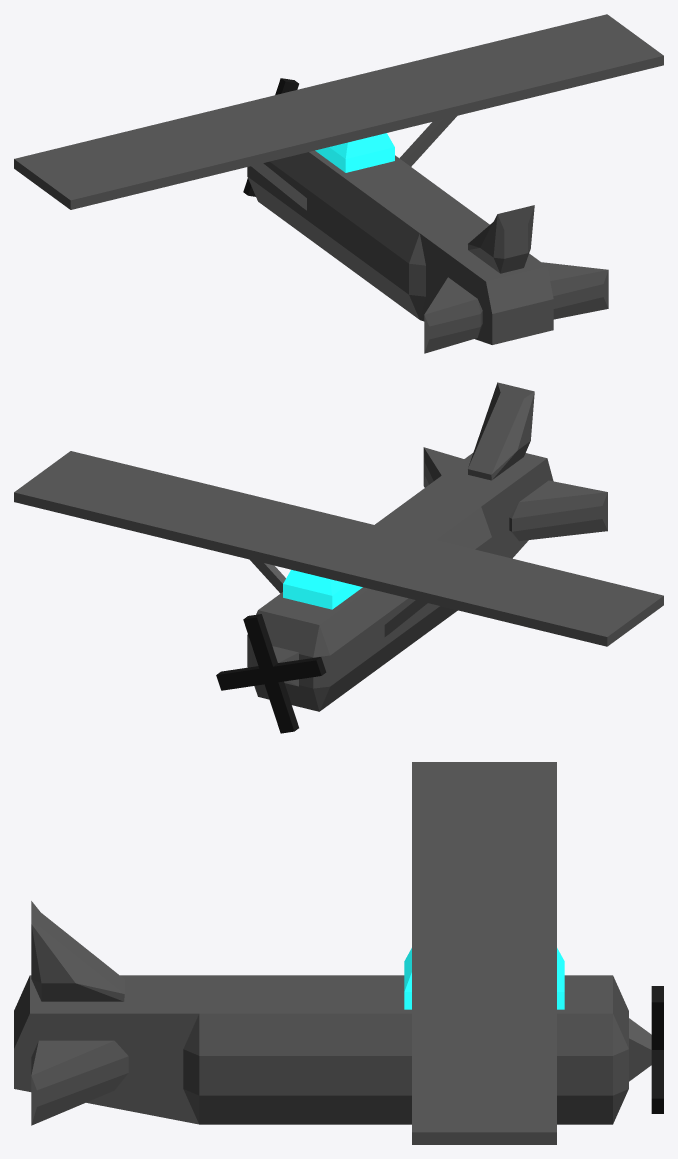
The picture shows the model from 3 angles, top to bottom: view 1: azimuth 30°, elevation 25°; view 2: azimuth 150°, elevation 25°; view 3: azimuth 270°, elevation 25°; orthographic projection. The views are drawn at different scales.
Parts seen in each view (by area): view 1: Cube.002; view 2: Cube.002; view 3: Cube.002.
Part boxes in pixels (x1,y1,x2,y2): Cube.002: (14, 14, 663, 353); Cube.002: (14, 382, 663, 733); Cube.002: (14, 762, 663, 1144).
Bounding box in the file's own units: 28.63 × 7.51 × 21.24.
Materials: 1 (1 with a texture image).
